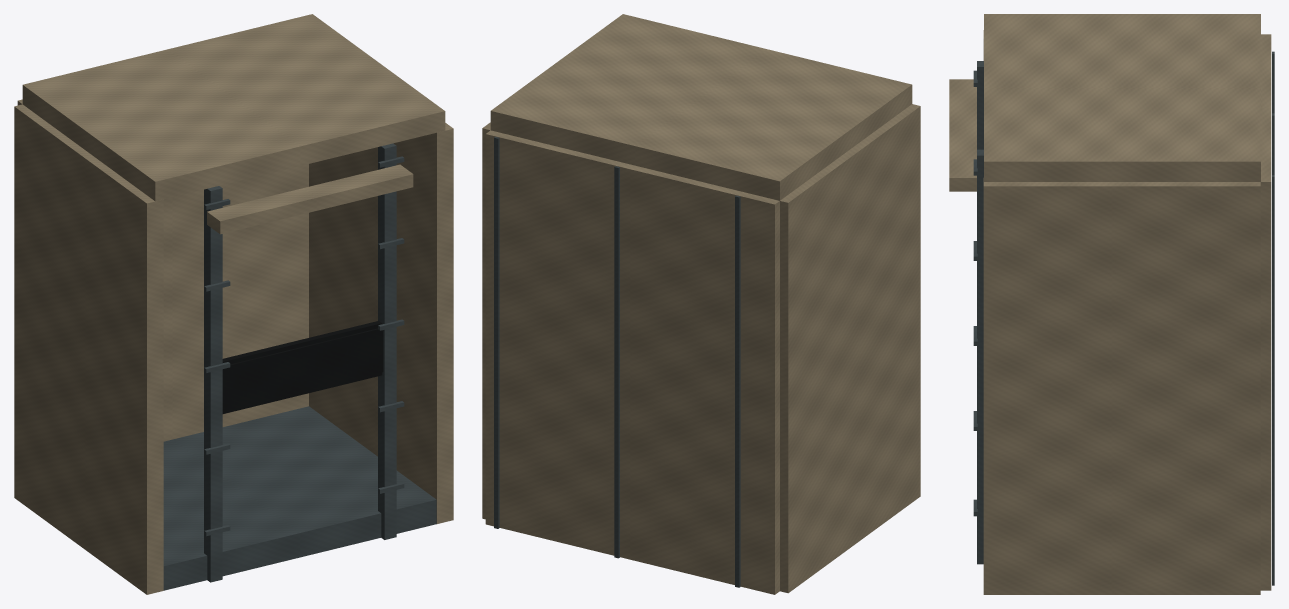
File: marshal-post.glb
The picture shows the model from 3 angles, left to right: view 1: azimuth 30°, elevation 25°; view 2: azimuth 150°, elevation 25°; view 3: azimuth 270°, elevation 25°; orthographic projection. The views are drawn at different scales.
Visible parts, largest first — view 1: marshal-post-marshal-hut_1, marshal-post-marshal-hut_0, marshal-post-marshal-hut_3, marshal-post-marshal-hut_2; view 2: marshal-post-marshal-hut_1, marshal-post-marshal-hut_0; view 3: marshal-post-marshal-hut_1, marshal-post-marshal-hut_0.
Part boxes in pixels (x1,y1,x2,y2): marshal-post-marshal-hut_1: (14, 14, 453, 594); marshal-post-marshal-hut_0: (163, 143, 436, 590); marshal-post-marshal-hut_3: (222, 328, 383, 410); marshal-post-marshal-hut_2: (222, 321, 382, 413); marshal-post-marshal-hut_1: (482, 14, 920, 594); marshal-post-marshal-hut_0: (494, 136, 740, 587); marshal-post-marshal-hut_1: (949, 14, 1271, 594); marshal-post-marshal-hut_0: (973, 51, 1274, 585).
Size of the model in its own units: 2.5 by 3.2 by 2.2.
3 materials, 3 textured.
